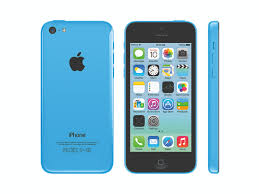iphone: (121, 17, 199, 174), (36, 15, 114, 172)
iphone5: (38, 17, 116, 174), (122, 17, 200, 174)
